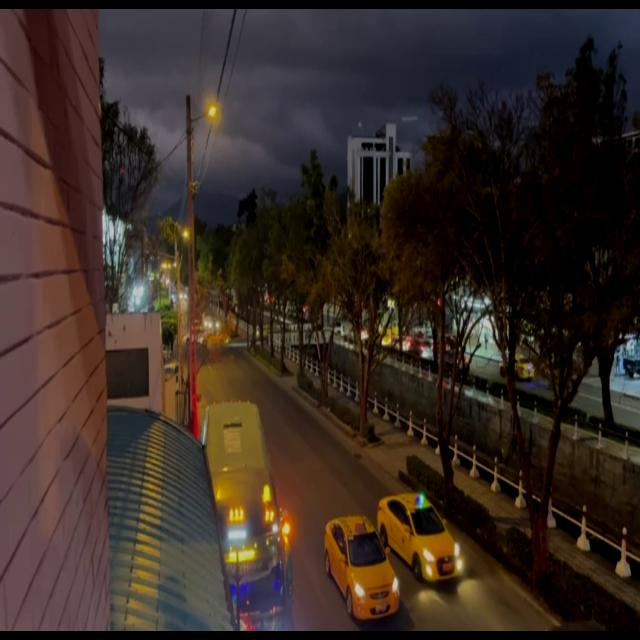BUS: (206, 498, 292, 630)
SED: (328, 520, 394, 617), (382, 496, 460, 578)
